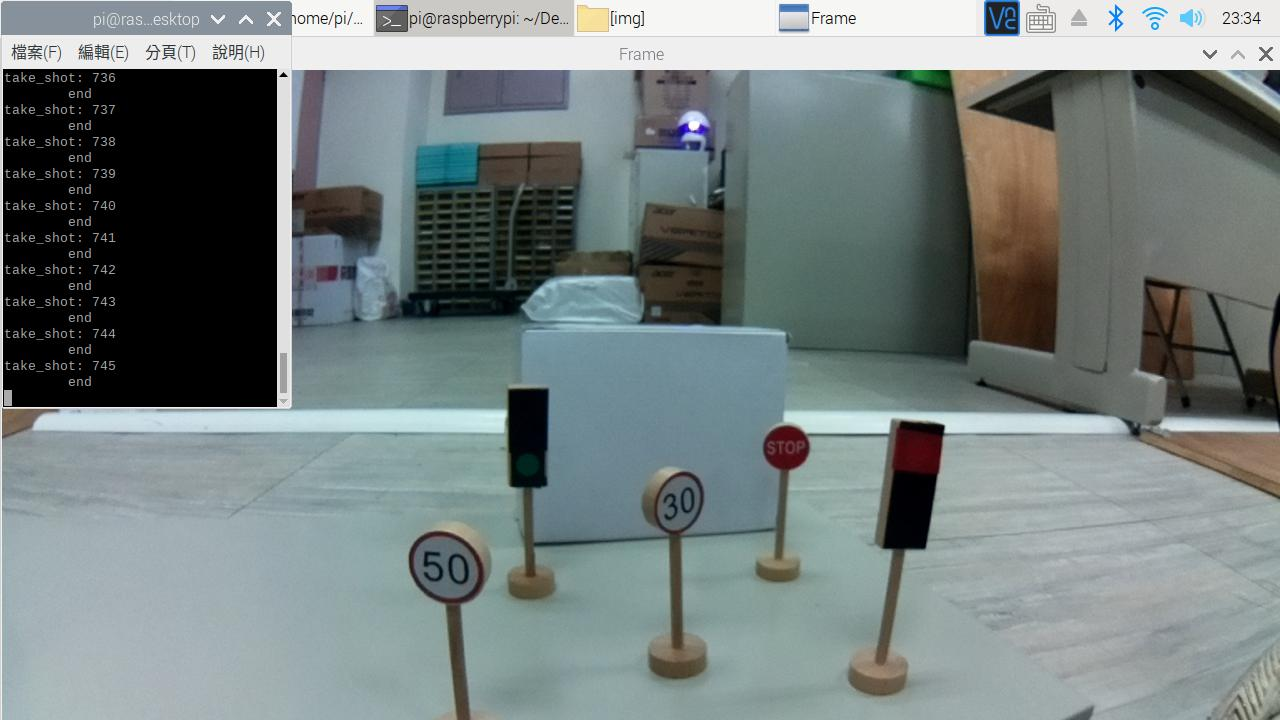Green: (499, 375, 563, 511)
Red: (868, 398, 946, 560)
Speed30: (637, 470, 708, 543)
Speed50: (401, 521, 490, 617)
Stop: (746, 420, 817, 470)
